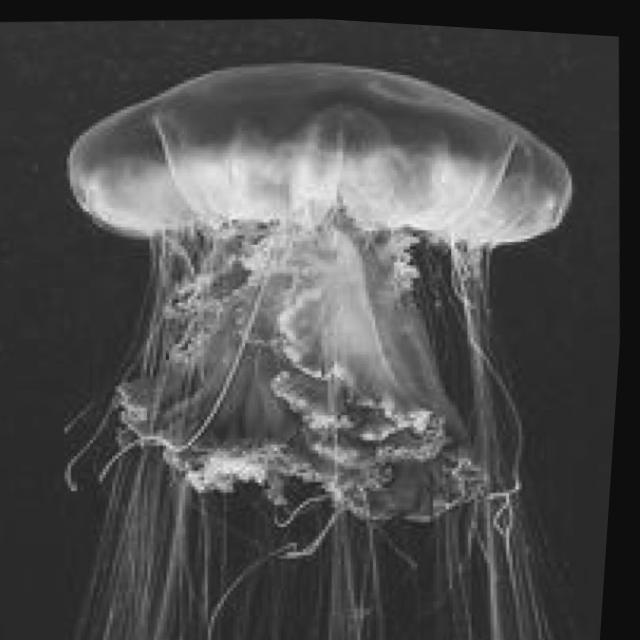Box-jellyfish: (0, 17, 639, 640)
